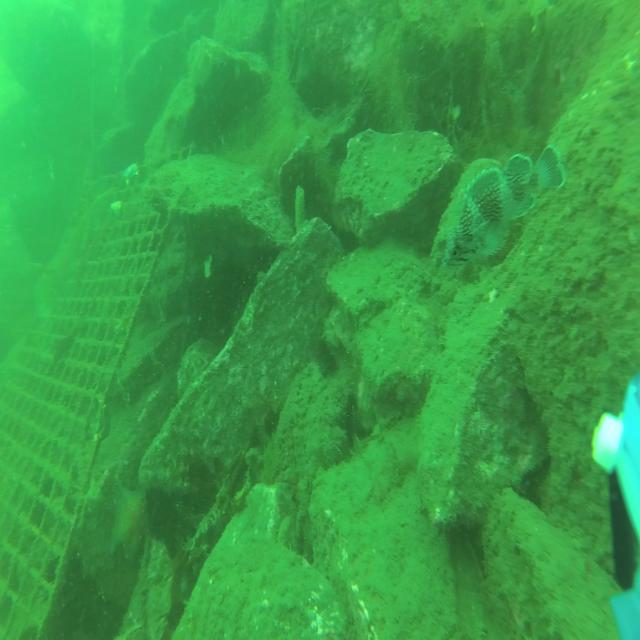starfish: (112, 482, 149, 560)
